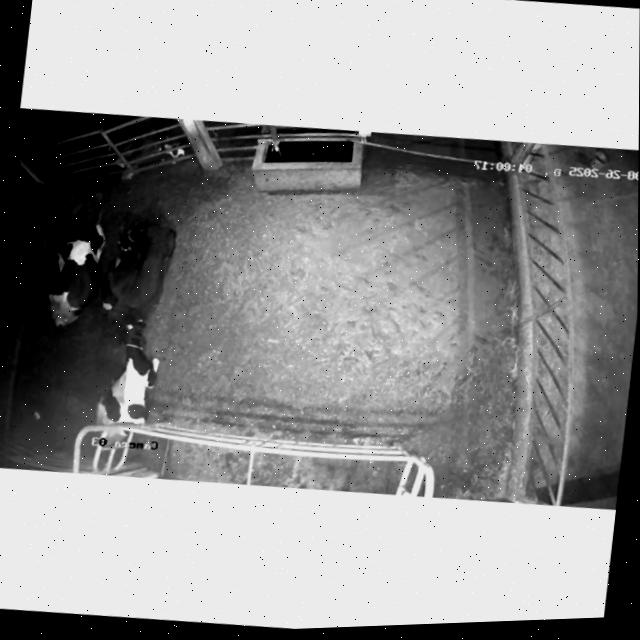lay: (31, 180, 112, 343), (95, 204, 187, 331), (85, 310, 172, 439)
